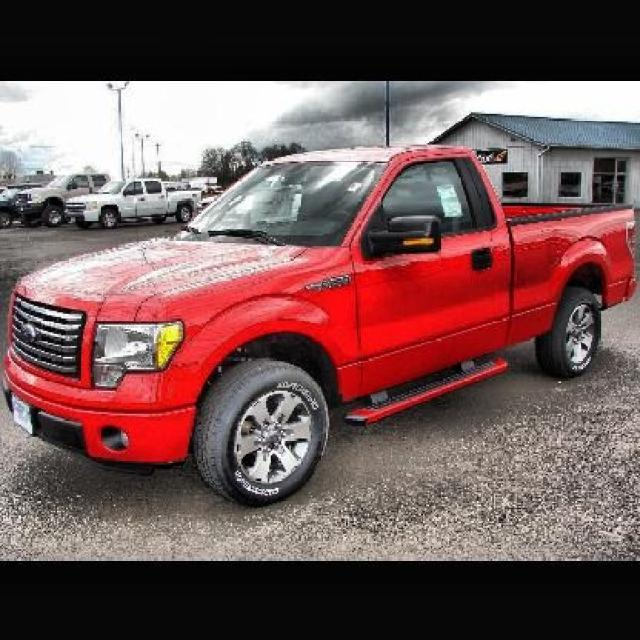red: (1, 151, 640, 457)
